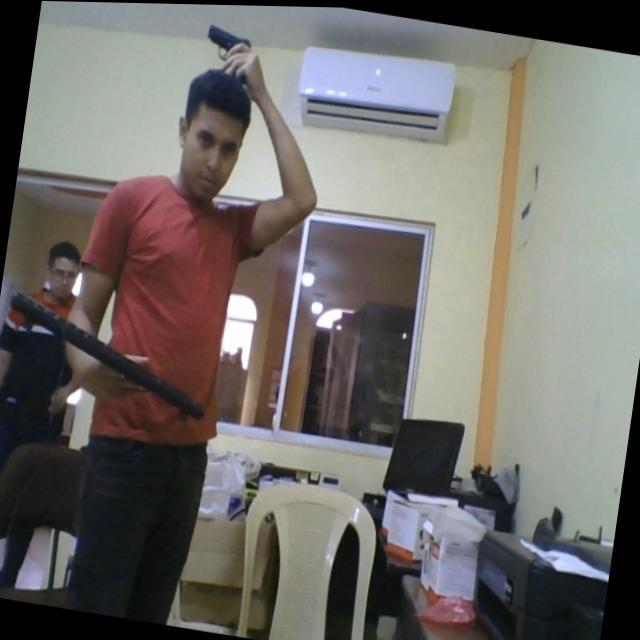weapon: (198, 3, 263, 82)
